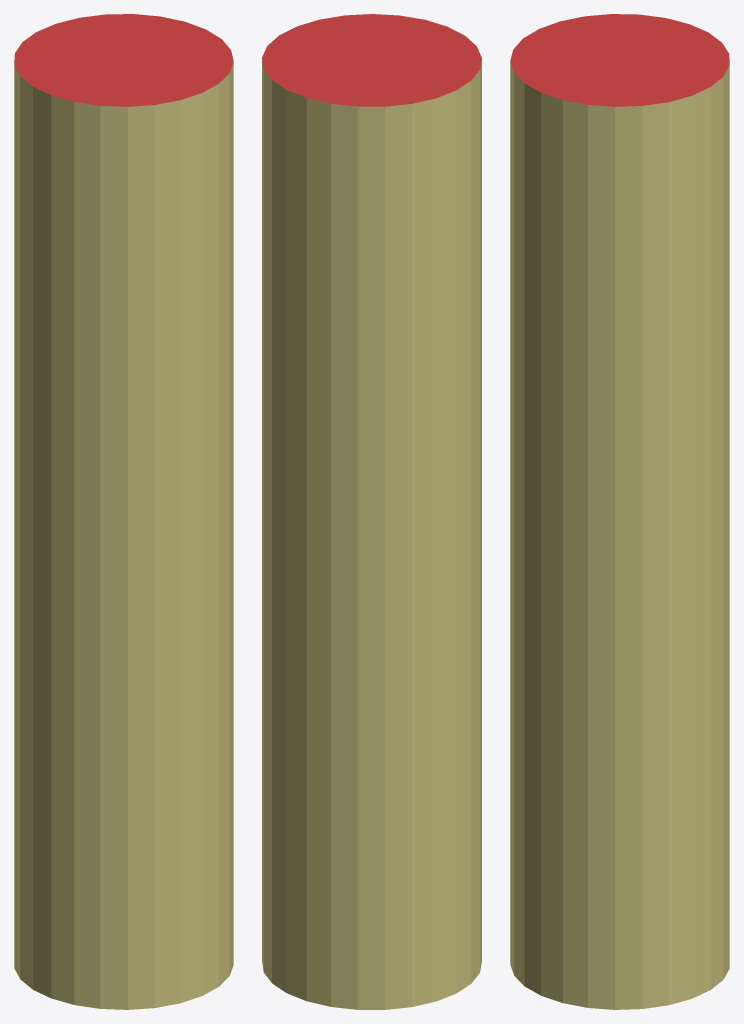
3 renders of one model, left to right at view 1: azimuth 30°, elevation 25°; view 2: azimuth 150°, elevation 25°; view 3: azimuth 270°, elevation 25°, orthographic.
Size of the model in its own units: 2.99 by 2.99 by 13.57.
